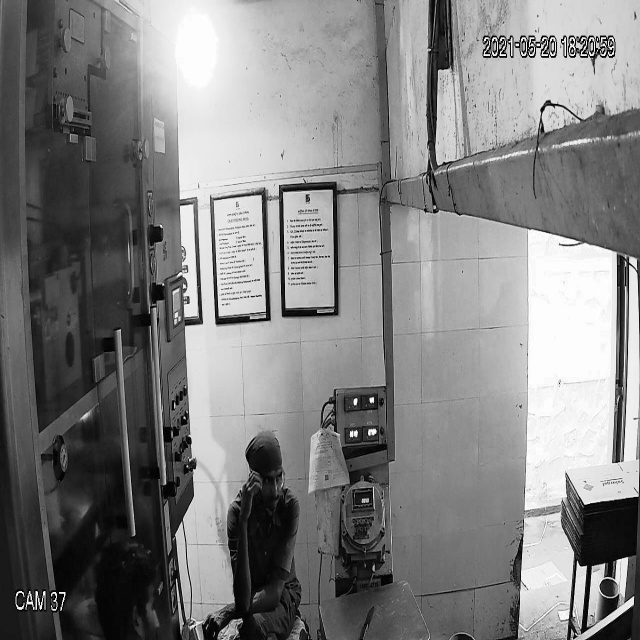Gafas: (252, 468, 287, 499)
